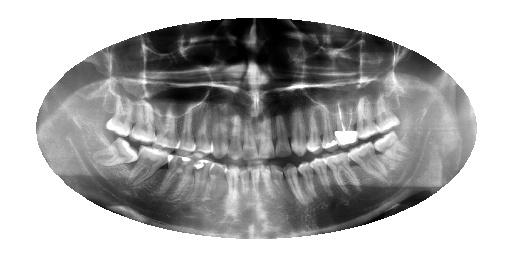i10healthy: (241, 164, 251, 212)
i11healthy: (224, 163, 242, 210)
i12healthy: (207, 160, 226, 204)
i13healthy: (189, 159, 213, 205)
i14healthy: (159, 152, 197, 202)
i15healthy: (127, 143, 173, 189)
i16healthy: (92, 137, 142, 170)
i1healthy: (372, 129, 413, 168)
i2healthy: (348, 142, 391, 187)
i3healthy: (325, 149, 360, 199)
i4healthy: (310, 155, 331, 197)
i5healthy: (297, 160, 318, 202)
i6decay: (283, 162, 305, 210)
i7healthy: (271, 163, 286, 212)
i8healthy: (261, 164, 273, 211)
i9healthy: (251, 163, 261, 212)
u10healthy: (228, 112, 243, 161)
u11healthy: (210, 108, 229, 161)
u12healthy: (192, 104, 212, 156)
u13healthy: (175, 103, 195, 157)
u14healthy: (153, 105, 182, 151)
u15healthy: (128, 99, 158, 144)
u16healthy: (104, 96, 135, 138)
u1healthy: (374, 92, 400, 133)
u2healthy: (355, 95, 381, 140)
u3healthy: (333, 98, 359, 149)
u4healthy: (318, 102, 340, 156)
u5healthy: (304, 104, 323, 157)
u6healthy: (288, 107, 308, 159)
u7healthy: (274, 112, 291, 159)
u8healthy: (256, 111, 274, 160)
u9healthy: (242, 111, 258, 160)
